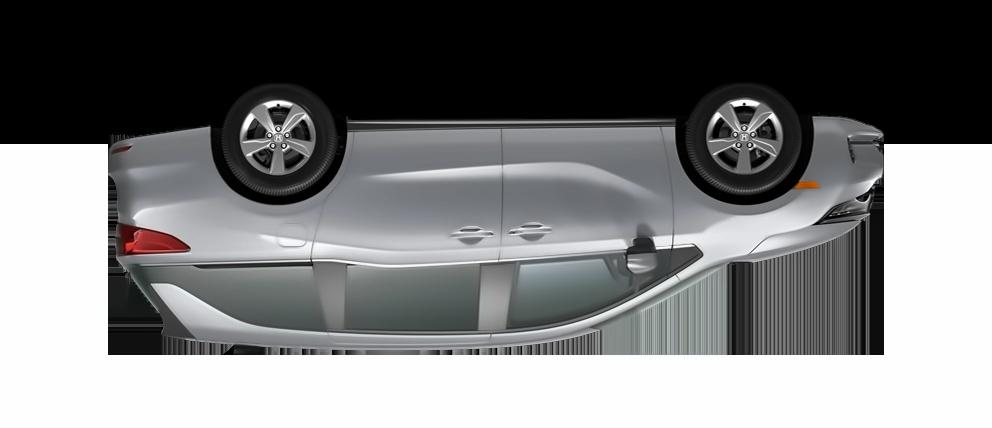Fender - -F-L-: (658, 124, 837, 283)
Fender - -R-L-: (188, 123, 360, 263)
Headlight - -L-: (811, 189, 873, 226)
Passenger-s door - -F-L-: (488, 110, 679, 354)
Passenger-s door - -R-L-: (308, 112, 507, 350)
Rear light - -L-: (113, 222, 190, 253)
Side bumper - -L-: (341, 96, 678, 167)
Side mirror - -L-: (622, 237, 657, 281)
